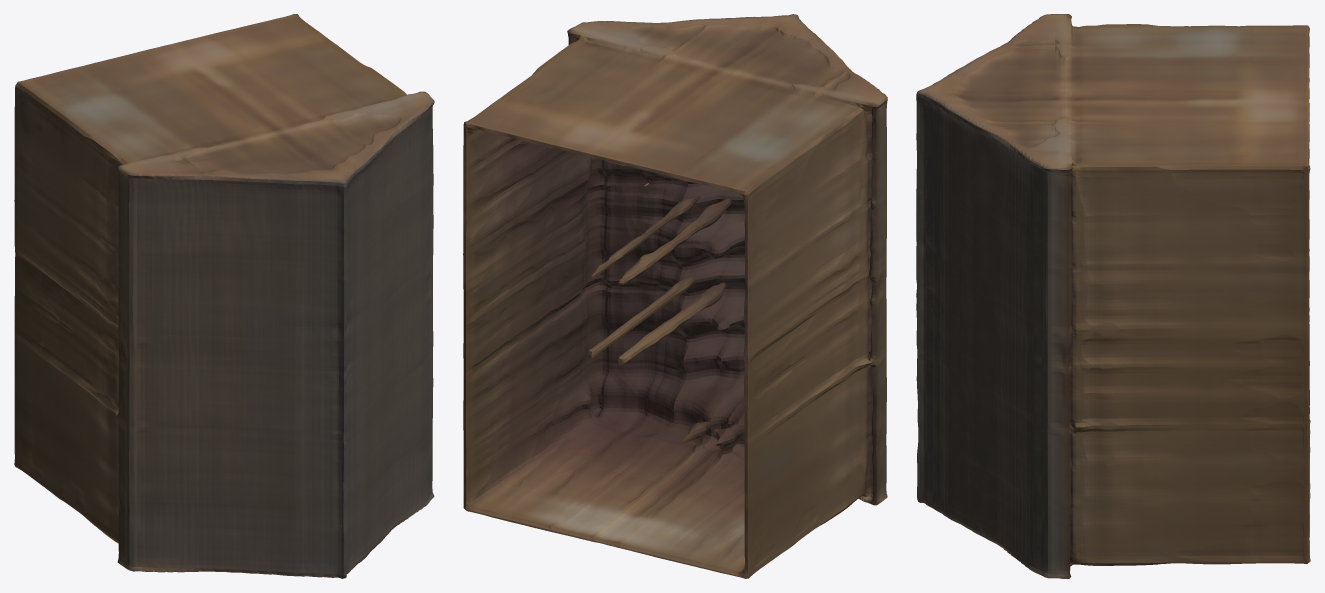
File: shed-continued.glb
3 renders of one model, left to right at view 1: azimuth 30°, elevation 25°; view 2: azimuth 150°, elevation 25°; view 3: azimuth 270°, elevation 25°, orthographic. The views are drawn at different scales.
Visible parts, largest first — view 1: continued.ply; view 2: continued.ply; view 3: continued.ply.
Part boxes in pixels (x1,y1,x2,y2): continued.ply: (14, 14, 434, 578); continued.ply: (463, 14, 887, 578); continued.ply: (916, 14, 1310, 578).
Bounding box in the file's own units: 1.61 × 1.98 × 1.72.
